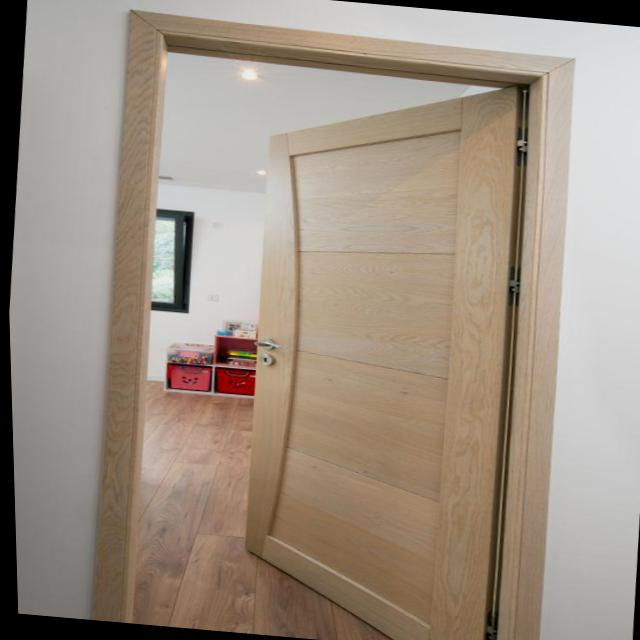semi-open: (66, 4, 593, 639)
